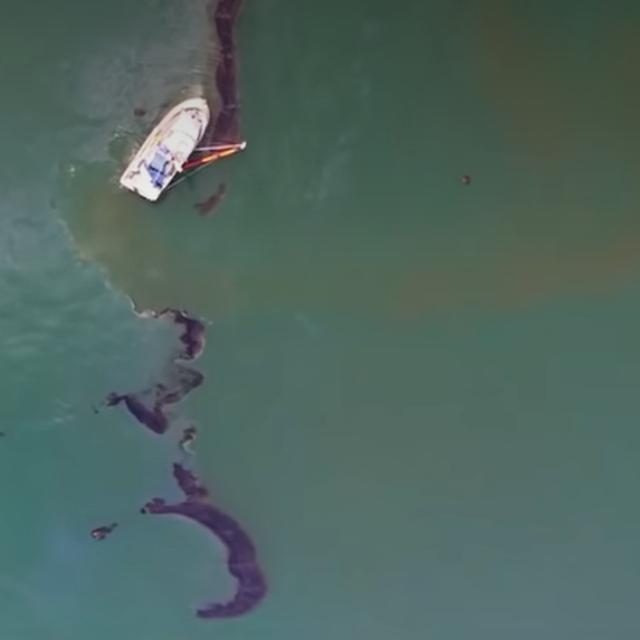truecolor: (145, 464, 267, 620), (166, 0, 246, 191), (105, 302, 206, 435), (195, 182, 228, 215), (91, 524, 117, 540)
